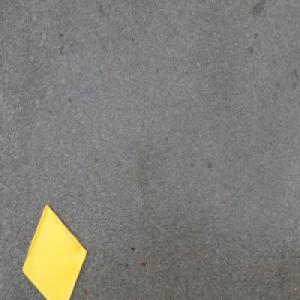PlasticPart: (21, 202, 88, 300)
